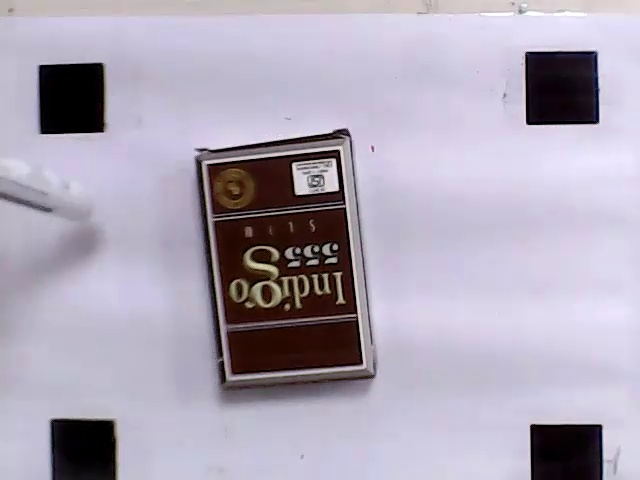BEX: (201, 149, 365, 378)
